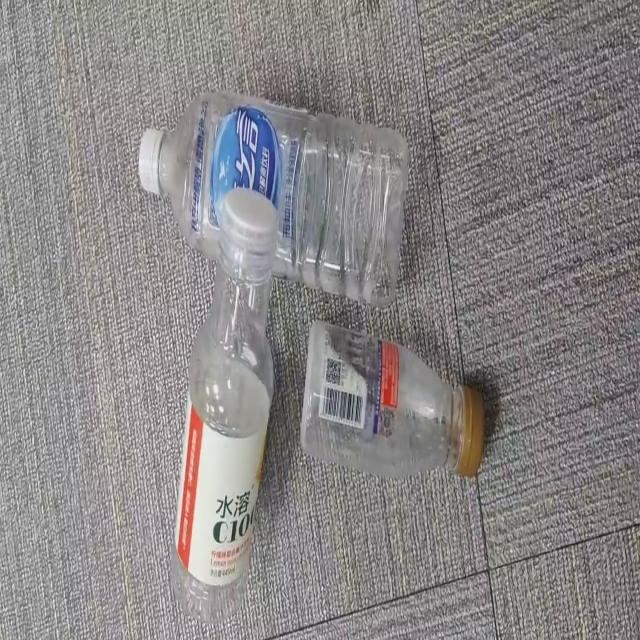bottle: (139, 92, 409, 307), (168, 185, 279, 622), (300, 321, 483, 476)
